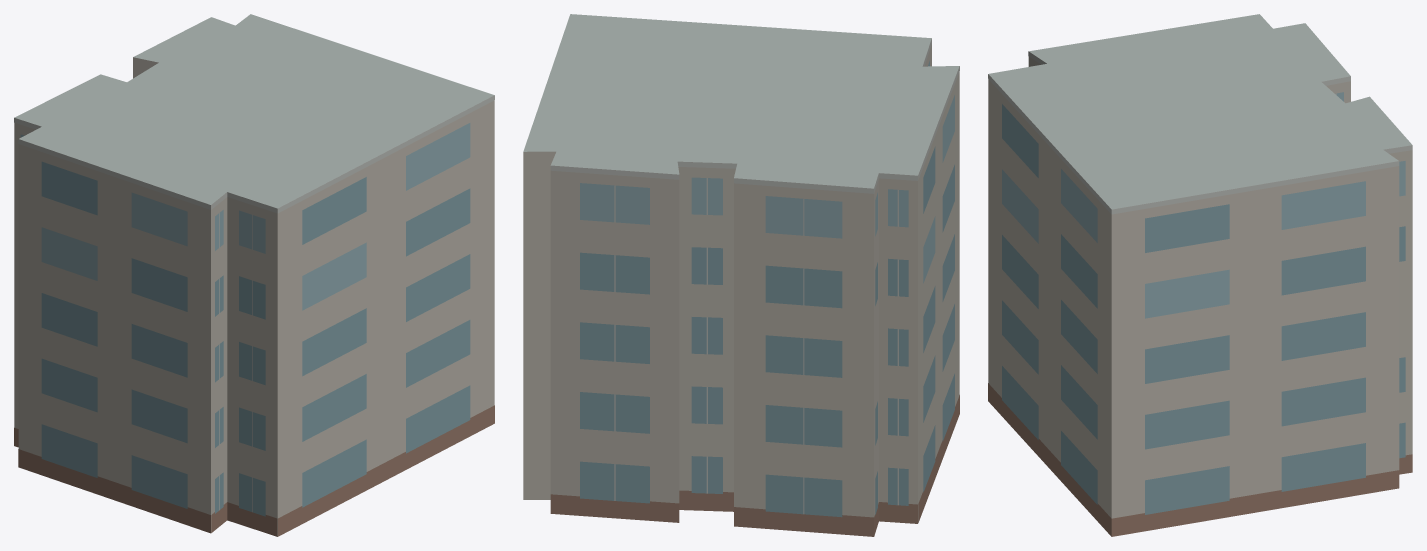
Rendered from survey-upis-32984256.glb.
The picture shows the model from 3 angles, left to right: view 1: azimuth 30°, elevation 25°; view 2: azimuth 150°, elevation 25°; view 3: azimuth 270°, elevation 25°; orthographic projection. The views are drawn at different scales.
Parts seen in each view (by area): view 1: survey-upis-32984256.tmp; view 2: survey-upis-32984256.tmp; view 3: survey-upis-32984256.tmp.
Part boxes in pixels (x1,y1,x2,y2): survey-upis-32984256.tmp: (14,14,494,536); survey-upis-32984256.tmp: (523,14,959,536); survey-upis-32984256.tmp: (988,14,1412,536).
Bounding box in the file's own units: 20.77 × 16.2 × 19.05.
